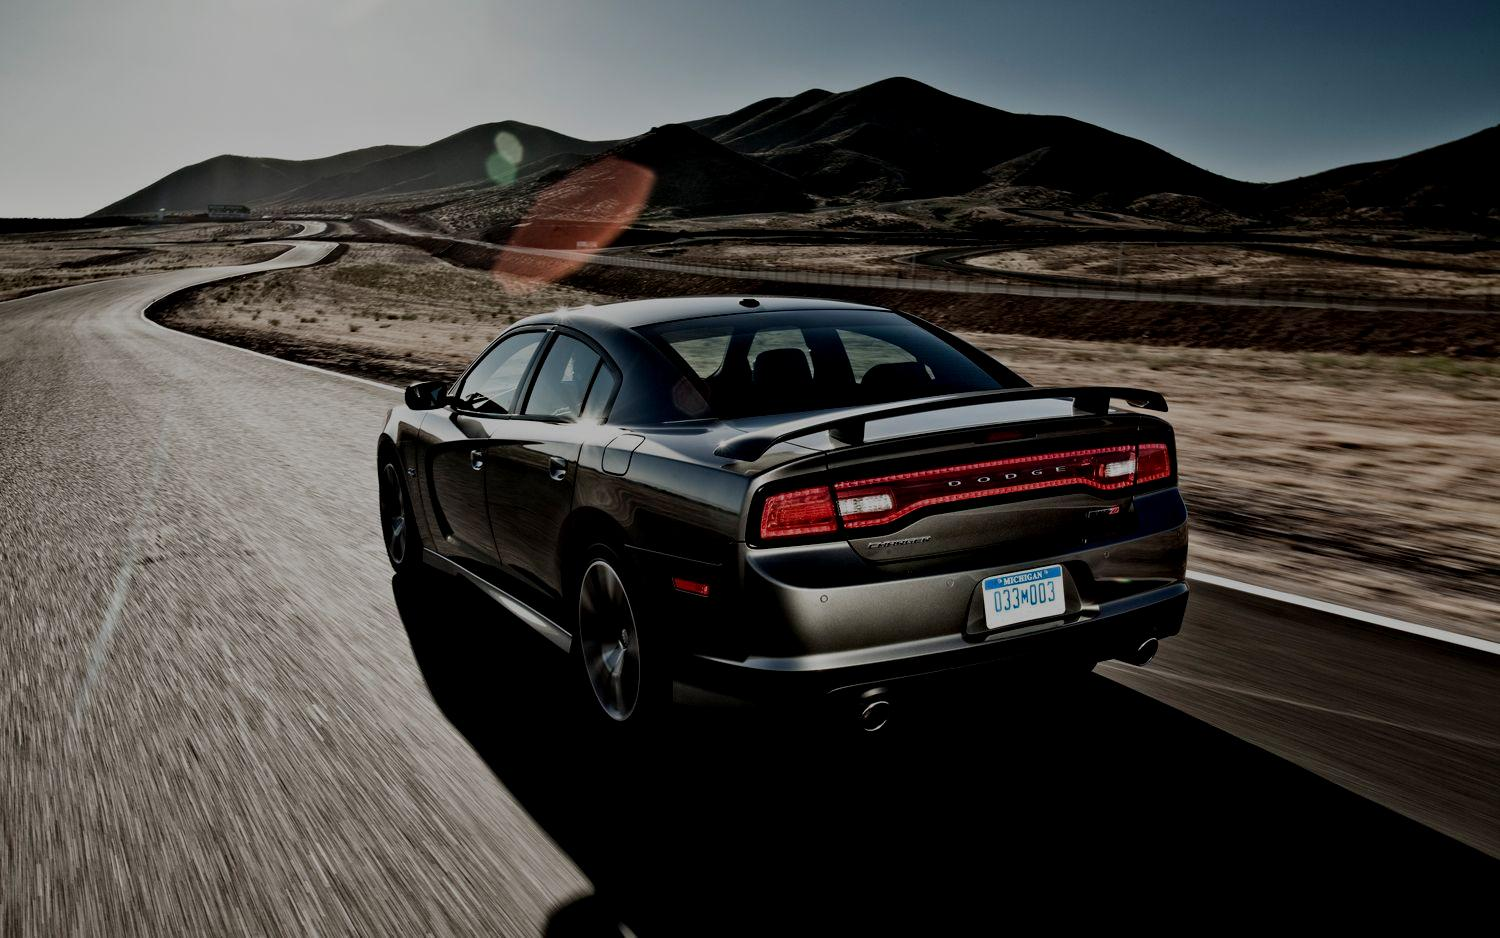dodge: (936, 447, 1087, 507)
